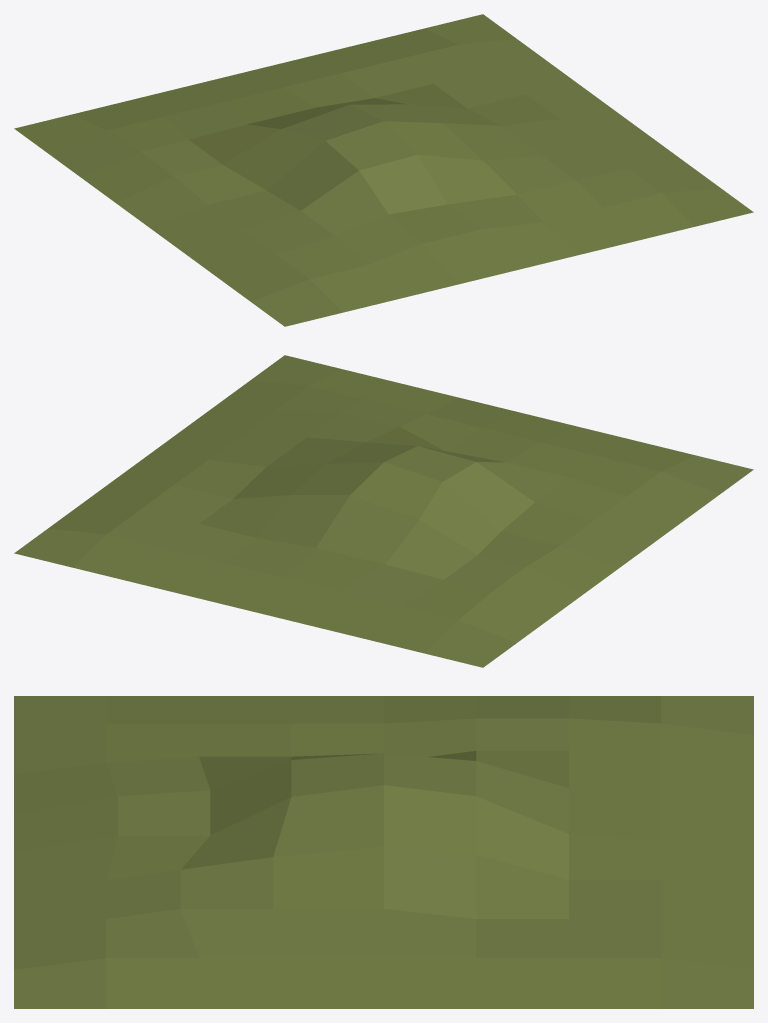
File: ground2.gltf
3 renders of one model, top to bottom at view 1: azimuth 30°, elevation 25°; view 2: azimuth 150°, elevation 25°; view 3: azimuth 270°, elevation 25°, orthographic. The views are drawn at different scales.
Visible parts, largest first — view 1: Plane; view 2: Plane; view 3: Plane.
Boxes of the visible parts, left/top/right/bottom form: Plane: left=14, top=14, right=753, bottom=326; Plane: left=14, top=355, right=753, bottom=667; Plane: left=14, top=696, right=753, bottom=1008.
Size of what is drawn, in the model's own units: 41.84 by 4.2 by 41.84.
1 material, 1 textured.
